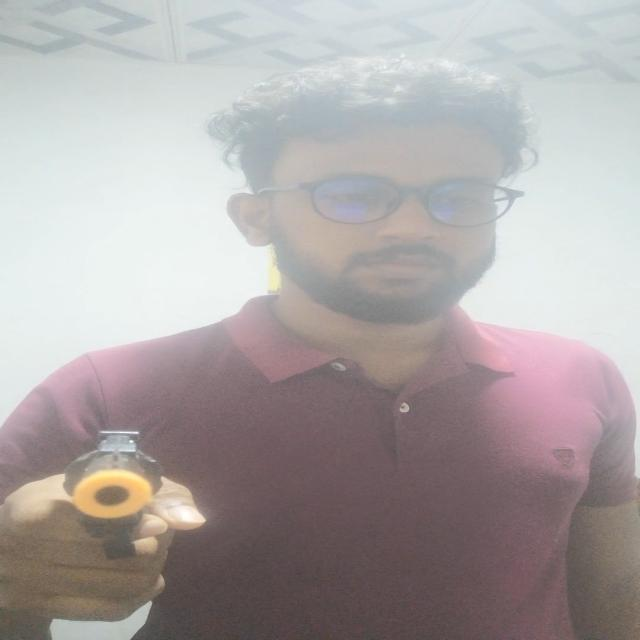Gun_Holder: (10, 417, 246, 621)
Person: (9, 64, 640, 640)
